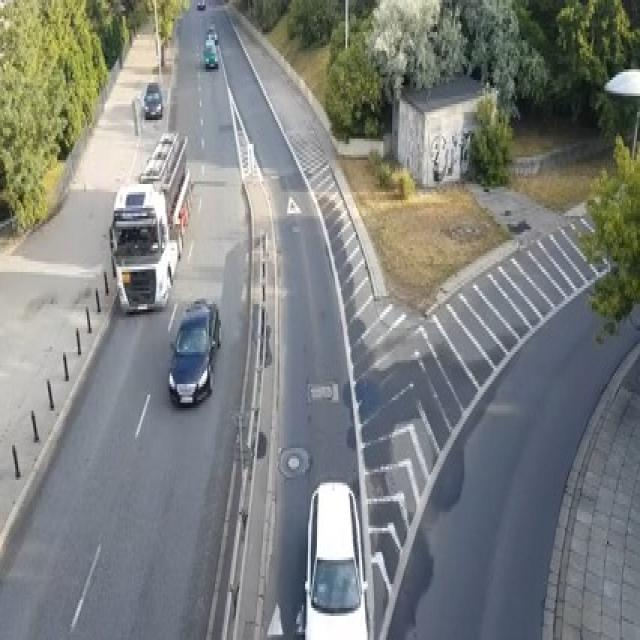car: (302, 480, 368, 637), (167, 296, 221, 405), (141, 83, 162, 117), (203, 37, 218, 70), (207, 21, 218, 43), (197, 0, 204, 8)
